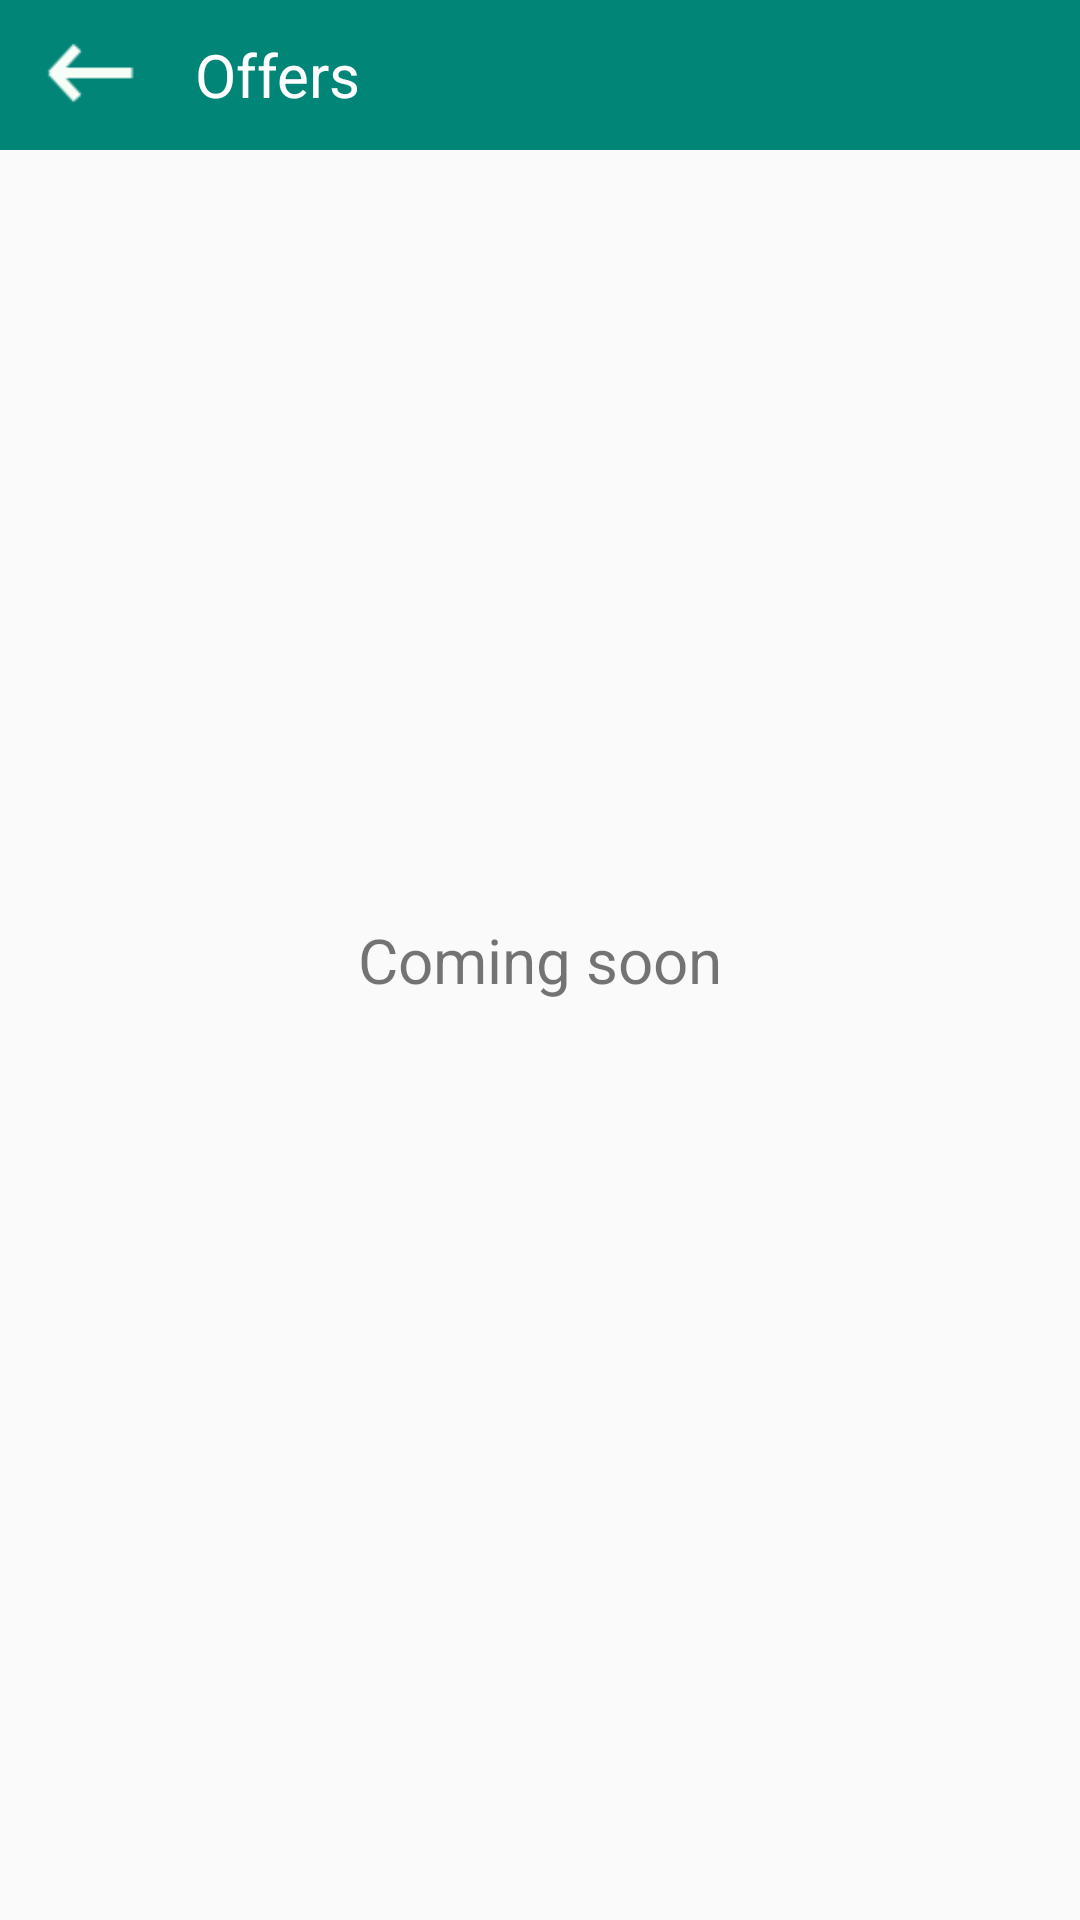

Named icons in this screenshot (1080×1920) and their centers, [x,y]:
back arrow: [91,73]
